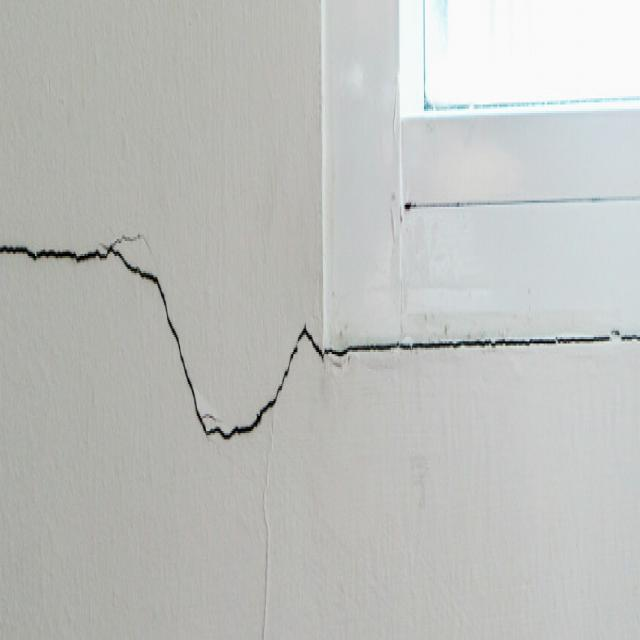leak: (203, 330, 307, 440), (323, 325, 640, 360), (142, 275, 205, 438), (0, 226, 159, 276), (302, 320, 326, 363)
